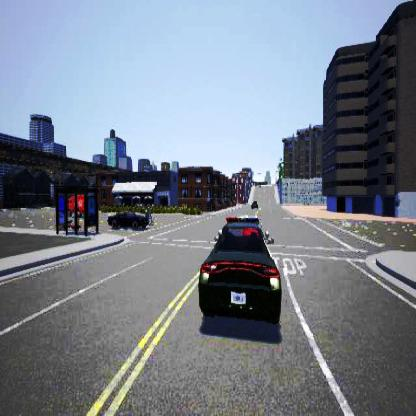bike: (143, 202, 154, 223)
vehicle: (197, 215, 280, 323), (107, 210, 152, 229)
